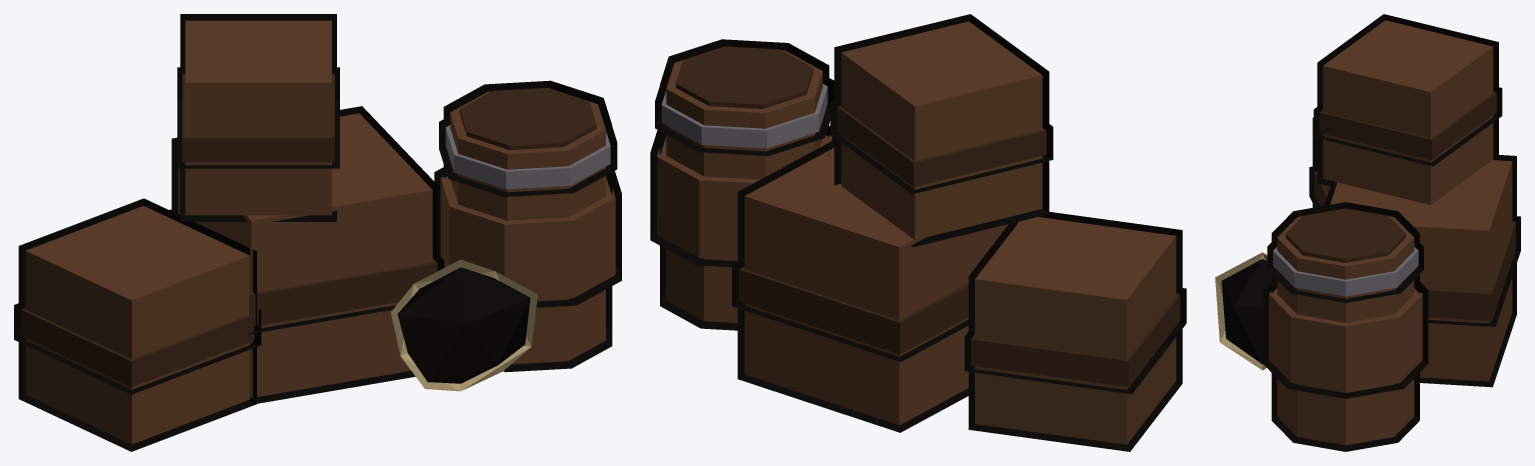
Rendered from crates.glb.
The picture shows the model from 3 angles, left to right: view 1: azimuth 30°, elevation 25°; view 2: azimuth 150°, elevation 25°; view 3: azimuth 270°, elevation 25°; orthographic projection. The views are drawn at different scales.
Visible parts, largest first — view 1: World_crates; view 2: World_crates; view 3: World_crates.
Boxes of the visible parts, bbox=[...] form: World_crates: bbox=[14, 14, 621, 451]; World_crates: bbox=[650, 14, 1186, 451]; World_crates: bbox=[1215, 14, 1520, 451].
Bounding box in the file's own units: 2.52 × 1.44 × 1.47.
